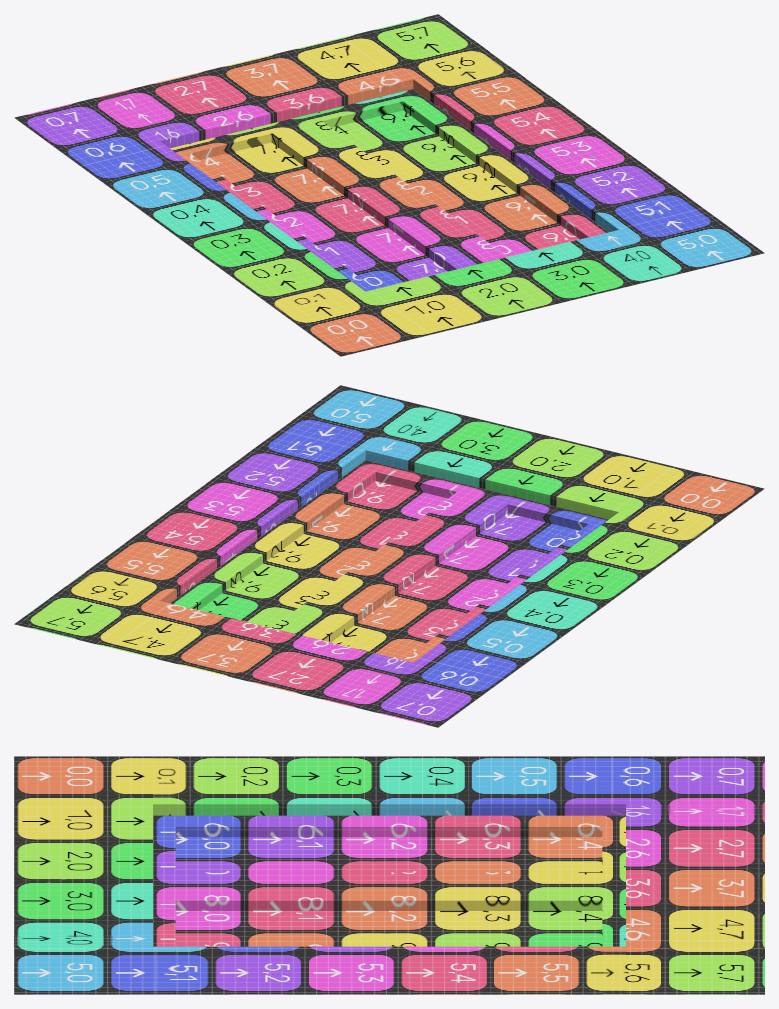
Rendered from TestWindow.fbx.
3 renders of one model, top to bottom at view 1: azimuth 30°, elevation 25°; view 2: azimuth 150°, elevation 25°; view 3: azimuth 270°, elevation 25°, orthographic. The views are drawn at different scales.
Visible parts, largest first — view 1: Window; view 2: Window; view 3: Window.
Boxes of the visible parts, x1,y1,x2,y2 form: Window: (14,14,764,356); Window: (14,385,764,727); Window: (14,756,764,994).
Bounding box in the file's own units: 1.5 × 0.0626 × 2.
